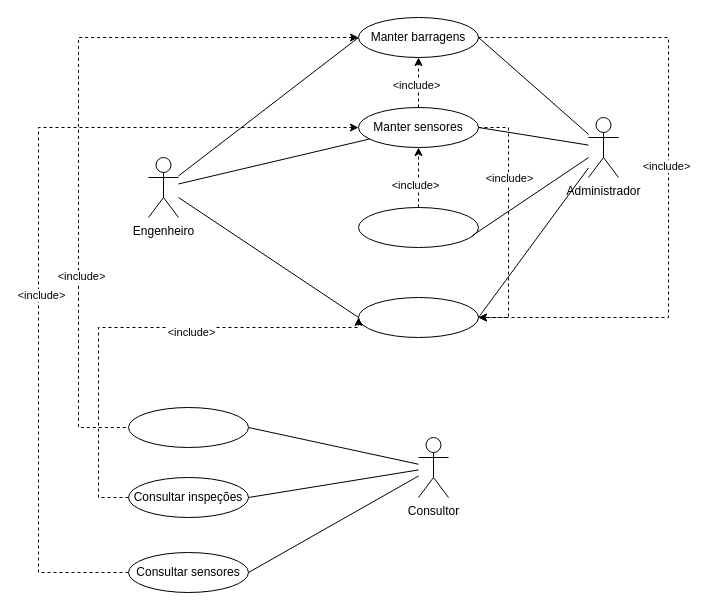
Some shapes in this 707 by 610 pixel diagram are drawn without their labels. The shapes that lost their labels are listed below. From the top down, each one's centre as x and y in pixels, then its label:
the point at 418,227: Manter tipos de sensor
the point at 418,317: Manter inspeções
the point at 188,427: Consultar barragens
